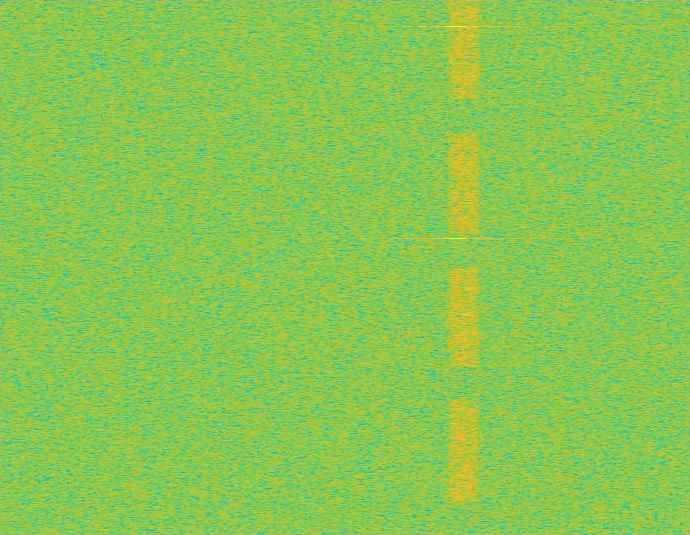5G: (447, 0, 481, 534)
Radar: (449, 0, 463, 534)
